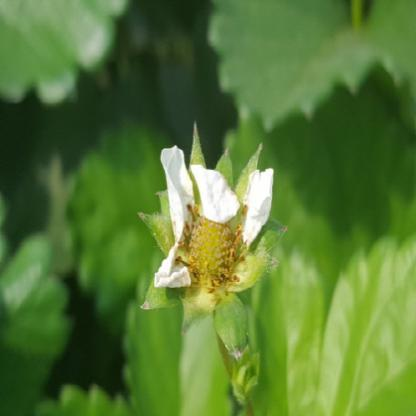Strawberry_Blossom_Blight: (172, 201, 250, 296)
